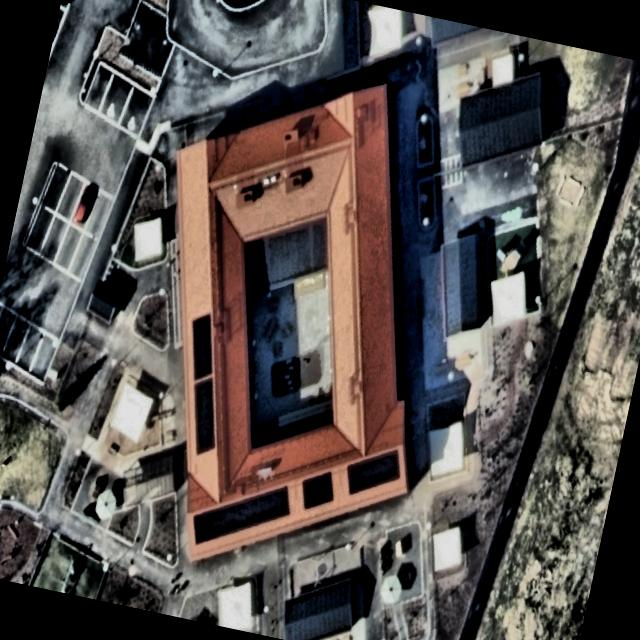roof_pv: (187, 465, 296, 563), (176, 369, 233, 459), (341, 436, 406, 512), (178, 308, 225, 384), (294, 465, 340, 519)
